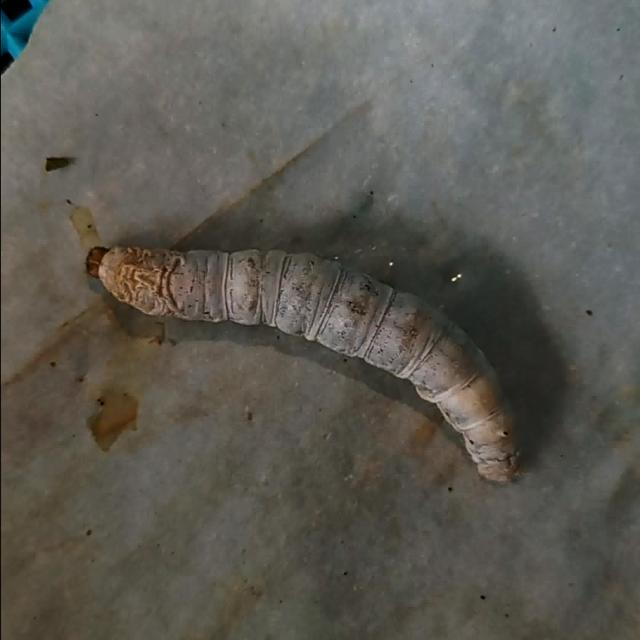Grasserie: (62, 212, 562, 508)
